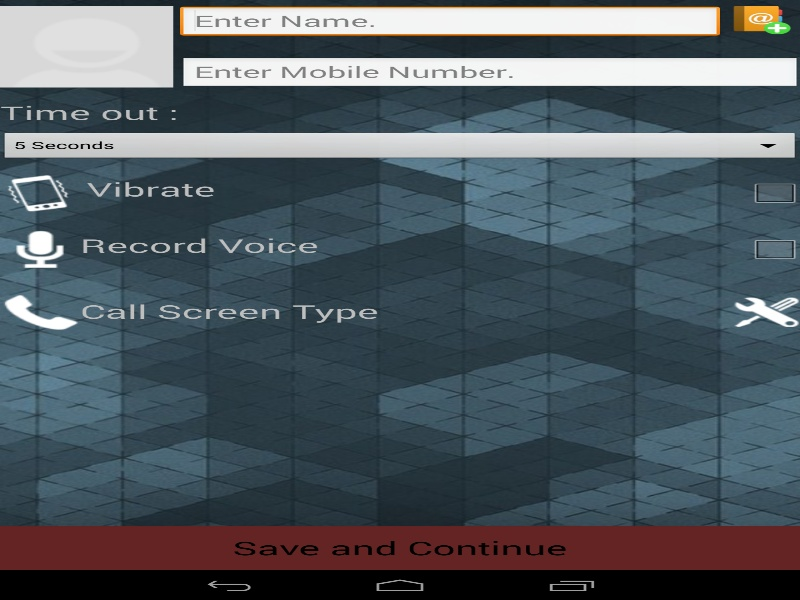Button: (0, 526, 800, 570), (0, 230, 80, 268), (0, 293, 80, 331), (0, 174, 80, 211), (733, 296, 800, 328), (730, 6, 790, 34)
Input: (180, 57, 800, 89), (180, 6, 720, 38)
